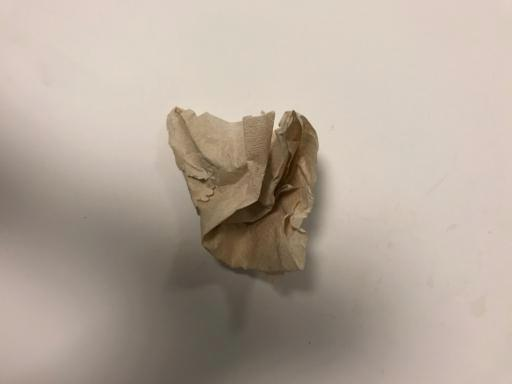trash: (167, 107, 321, 281)
